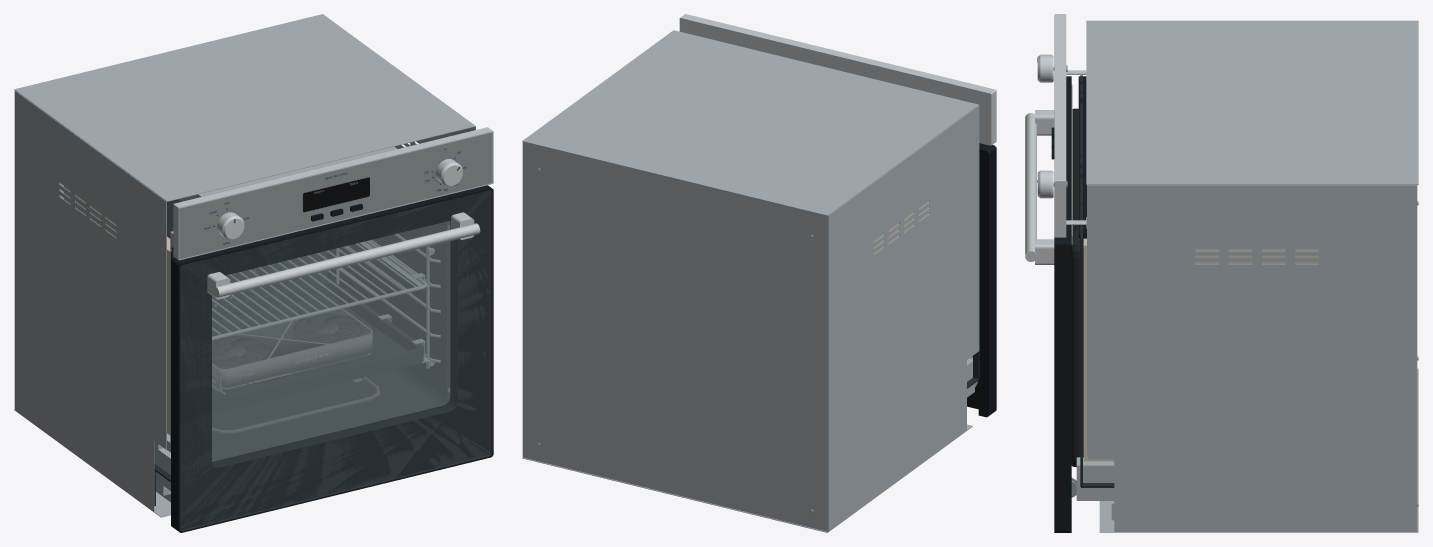
The model's file is oven.glb.
3 views of the same model, side by side, from view 1: azimuth 30°, elevation 25°; view 2: azimuth 150°, elevation 25°; view 3: azimuth 270°, elevation 25° (orthographic). The views are drawn at different scales.
Visible parts, largest first — view 1: door_outer_glass, shell_side_-1, shell_roof, door_carrier, door_inner_glass, cavity_liner, control_markings, tray, fascia, handle, gpu5090_perimeter, gpu5090_fan_deck (+9 smaller); view 2: shell_back, shell_side_-1, shell_roof, fascia, door_carrier, shell_floor; view 3: shell_side_1, shell_roof, door_carrier, door_seal, fascia, side_insulation_1, handle, front_mount_frame, HR_receiver, front_lower_vent, shell_floor, shell_back (+4 smaller).
Part boxes in pixels (bbox=[...]): door_outer_glass: bbox=[180, 190, 492, 530]; shell_side_-1: bbox=[14, 90, 166, 511]; shell_roof: bbox=[14, 14, 475, 201]; door_carrier: bbox=[171, 185, 493, 532]; door_inner_glass: bbox=[212, 221, 449, 461]; cavity_liner: bbox=[167, 199, 447, 461]; control_markings: bbox=[179, 132, 492, 258]; tray: bbox=[212, 280, 423, 413]; fascia: bbox=[173, 127, 493, 260]; handle: bbox=[213, 223, 480, 297]; gpu5090_perimeter: bbox=[212, 309, 372, 388]; gpu5090_fan_deck: bbox=[212, 310, 370, 368]; shell_back: bbox=[522, 142, 828, 531]; shell_side_-1: bbox=[828, 105, 979, 531]; shell_roof: bbox=[522, 30, 978, 215]; fascia: bbox=[679, 14, 996, 145]; door_carrier: bbox=[967, 143, 996, 417]; shell_floor: bbox=[522, 424, 972, 532]; shell_side_1: bbox=[1087, 185, 1416, 532]; shell_roof: bbox=[1086, 20, 1418, 184]; door_carrier: bbox=[1054, 76, 1071, 532]; door_seal: bbox=[1071, 108, 1080, 466]; fascia: bbox=[1054, 14, 1086, 237]; side_insulation_1: bbox=[1083, 238, 1318, 461]; handle: bbox=[1025, 113, 1036, 261]; front_mount_frame: bbox=[1080, 75, 1114, 487]; HR_receiver: bbox=[1076, 457, 1114, 500]; front_lower_vent: bbox=[1078, 76, 1086, 238]; shell_floor: bbox=[1099, 368, 1418, 532]; shell_back: bbox=[1416, 185, 1417, 531].
Size of the model in its own units: 0.594 by 0.595 by 0.592.
Materials: 24 (1 with a texture image).
